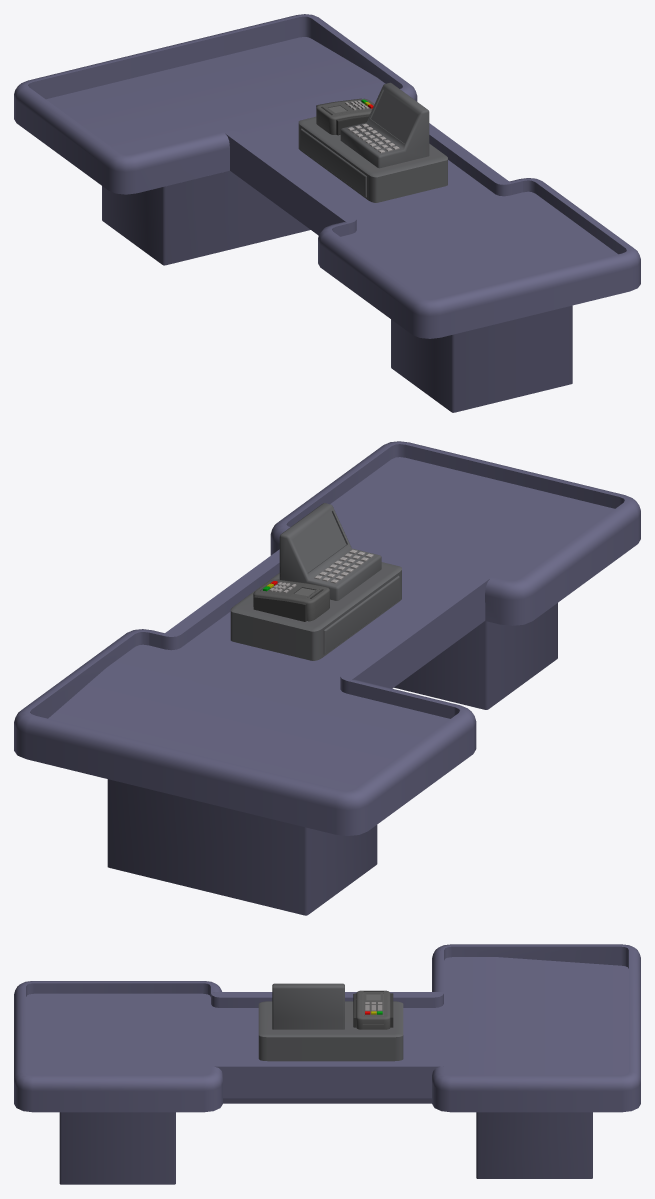
File: Caixas.fbx
The picture shows the model from 3 angles, top to bottom: view 1: azimuth 30°, elevation 25°; view 2: azimuth 150°, elevation 25°; view 3: azimuth 270°, elevation 25°; orthographic projection. The views are drawn at different scales.
Parts seen in each view (by area): view 1: Cube, Cube.009, Cube.002, Cube.005, Cube.018, Cube.014; view 2: Cube, Cube.009, Cube.002, Cube.005, Cube.018, Cube.014; view 3: Cube, Cube.009, Cube.002, Cube.005, Cube.018, Cube.014.
Part boxes in pixels (left/top/right/bottom): Cube: left=14, top=14, right=640, bottom=338; Cube.009: left=102, top=170, right=572, bottom=412; Cube.002: left=298, top=116, right=447, bottom=202; Cube.005: left=340, top=82, right=429, bottom=168; Cube.018: left=316, top=98, right=374, bottom=135; Cube.014: left=316, top=98, right=374, bottom=134; Cube: left=14, top=441, right=640, bottom=835; Cube.009: left=107, top=603, right=557, bottom=915; Cube.002: left=230, top=562, right=401, bottom=660; Cube.005: left=279, top=503, right=381, bottom=600; Cube.018: left=253, top=579, right=329, bottom=621; Cube.014: left=253, top=579, right=329, bottom=621; Cube: left=14, top=944, right=640, bottom=1112; Cube.009: left=59, top=1098, right=592, bottom=1184; Cube.002: left=258, top=1001, right=403, bottom=1061; Cube.005: left=272, top=983, right=344, bottom=1029; Cube.018: left=353, top=990, right=393, bottom=1027; Cube.014: left=356, top=990, right=390, bottom=1029.
Size of the model in its own units: 799 by 493 by 1518.
